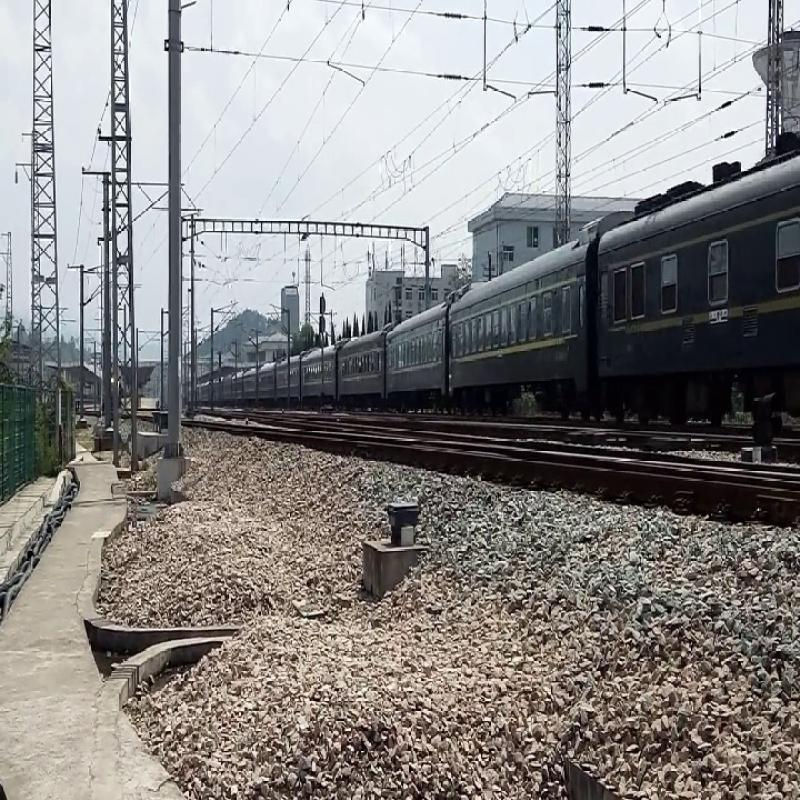train: (435, 286, 619, 406)
